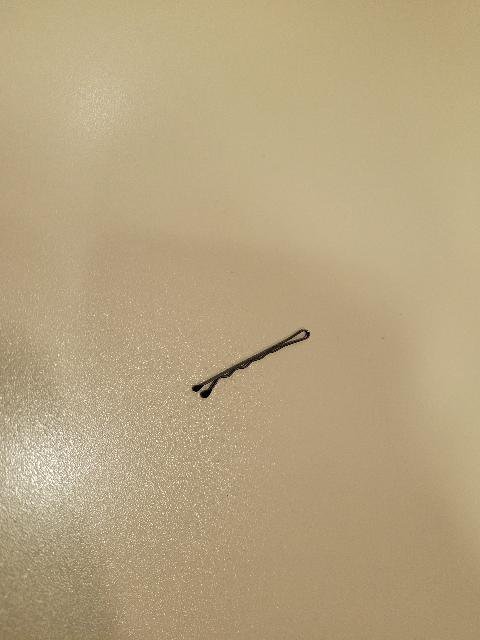Metal: (188, 325, 319, 405)
